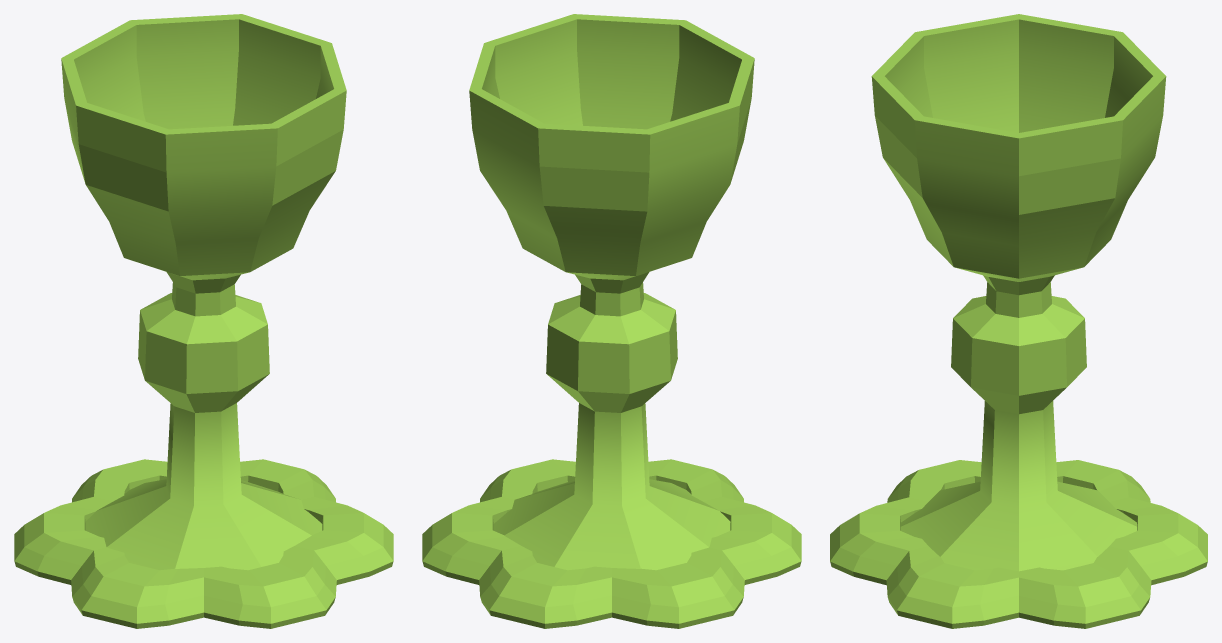
The model's file is SM_Chalice_03.fbx.
3 renders of one model, left to right at view 1: azimuth 30°, elevation 25°; view 2: azimuth 150°, elevation 25°; view 3: azimuth 270°, elevation 25°, orthographic.
Visible parts, largest first — view 1: pCylinder2, Chalice03; view 2: pCylinder2, Chalice03; view 3: pCylinder2, Chalice03.
Boxes of the visible parts, x1,y1,x2,y2 form: pCylinder2: (61, 14, 346, 570); Chalice03: (14, 459, 393, 628); pCylinder2: (469, 14, 754, 570); Chalice03: (422, 459, 801, 628); pCylinder2: (871, 14, 1166, 571); Chalice03: (830, 460, 1207, 628).
Bounding box in the file's own units: 39.1 × 57.35 × 41.13.
